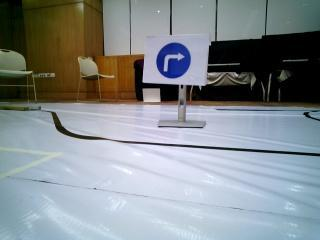right: (146, 38, 210, 87)
